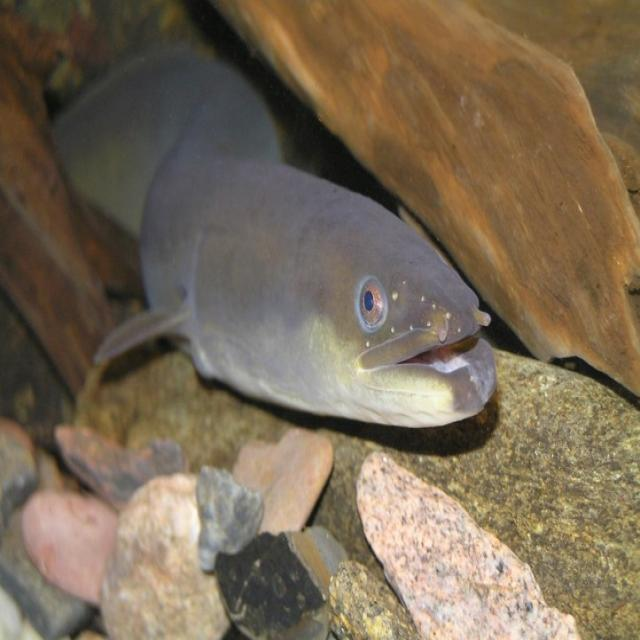Freshwater-Eel: (34, 19, 542, 511)
